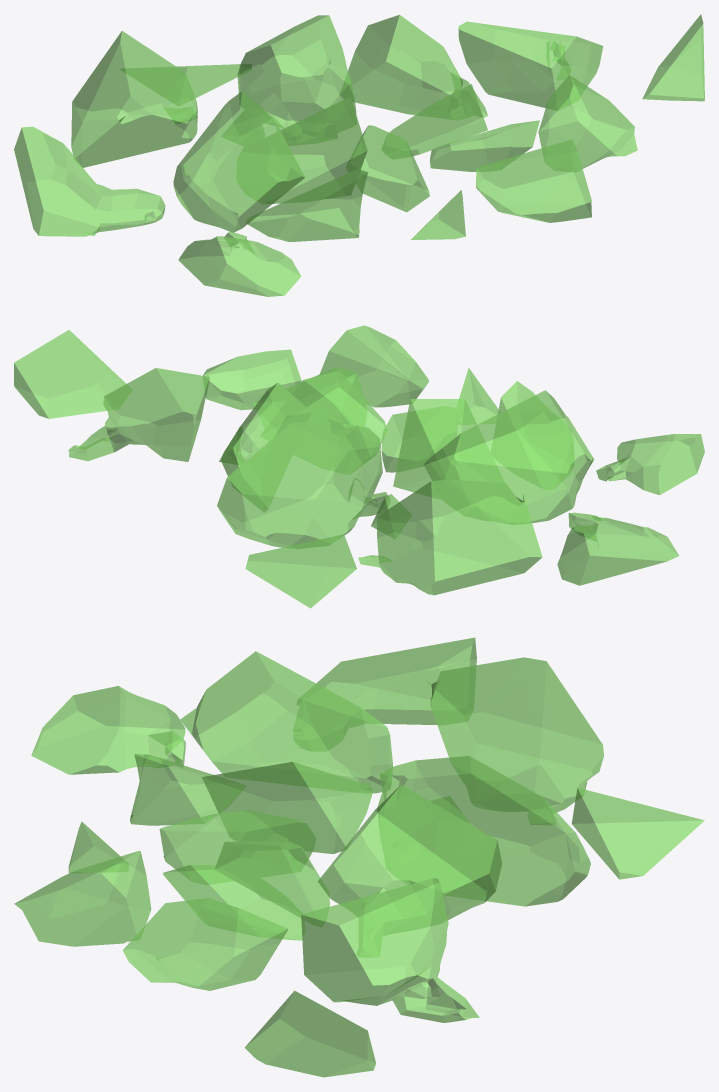
The model's file is pedaços de vidro.fbx.
The picture shows the model from 3 angles, top to bottom: view 1: azimuth 30°, elevation 25°; view 2: azimuth 150°, elevation 25°; view 3: azimuth 270°, elevation 25°; orthographic projection. The views are drawn at different scales.
Visible parts, largest first — view 1: Vidro.012, Vidro.017, Vidro.004, Vidro.001, Vidro.013, Vidro.003, Vidro.015, Vidro.014, Vidro.002, Vidro.009, Vidro.007, Vidro.006 (+6 smaller); view 2: Vidro.004, Vidro.012, Vidro.017, Vidro.015, Vidro.010, Vidro.013, Vidro.011, Vidro.001, Vidro.007, Vidro.003, Vidro.014, Vidro.008 (+6 smaller); view 3: Vidro.004, Vidro.012, Vidro.017, Vidro.001, Vidro.015, Vidro.003, Vidro.013, Vidro.002, Vidro.009, Vidro.014, Vidro.006, Vidro.011 (+5 smaller).
Boxes of the visible parts, x1,y1,x2,y2 form: Vidro.012: (71, 31, 197, 167); Vidro.017: (173, 91, 304, 232); Vidro.004: (237, 15, 356, 145); Vidro.001: (339, 14, 487, 119); Vidro.013: (237, 96, 367, 203); Vidro.003: (14, 126, 165, 236); Vidro.015: (458, 21, 603, 110); Vidro.014: (476, 139, 591, 222); Vidro.002: (538, 75, 637, 171); Vidro.009: (178, 231, 301, 296); Vidro.007: (246, 169, 368, 241); Vidro.006: (346, 125, 429, 212); Vidro.004: (217, 418, 390, 548); Vidro.012: (358, 479, 542, 595); Vidro.017: (423, 390, 594, 524); Vidro.015: (68, 368, 209, 461); Vidro.010: (260, 370, 386, 473); Vidro.013: (393, 399, 504, 499); Vidro.011: (14, 330, 131, 418); Vidro.001: (219, 382, 311, 511); Vidro.007: (491, 381, 573, 489); Vidro.003: (557, 512, 678, 585); Vidro.014: (320, 325, 429, 407); Vidro.008: (245, 534, 356, 608); Vidro.004: (377, 756, 590, 906); Vidro.012: (425, 657, 603, 824); Vidro.017: (180, 651, 392, 793); Vidro.001: (318, 785, 502, 956); Vidro.015: (301, 878, 479, 1022); Vidro.003: (294, 637, 476, 750); Vidro.013: (202, 761, 372, 853); Vidro.002: (122, 898, 287, 990); Vidro.009: (31, 686, 185, 774); Vidro.014: (14, 851, 151, 946); Vidro.006: (159, 811, 315, 884); Vidro.011: (244, 990, 375, 1077).
Size of the model in its own units: 697 by 108 by 502.
